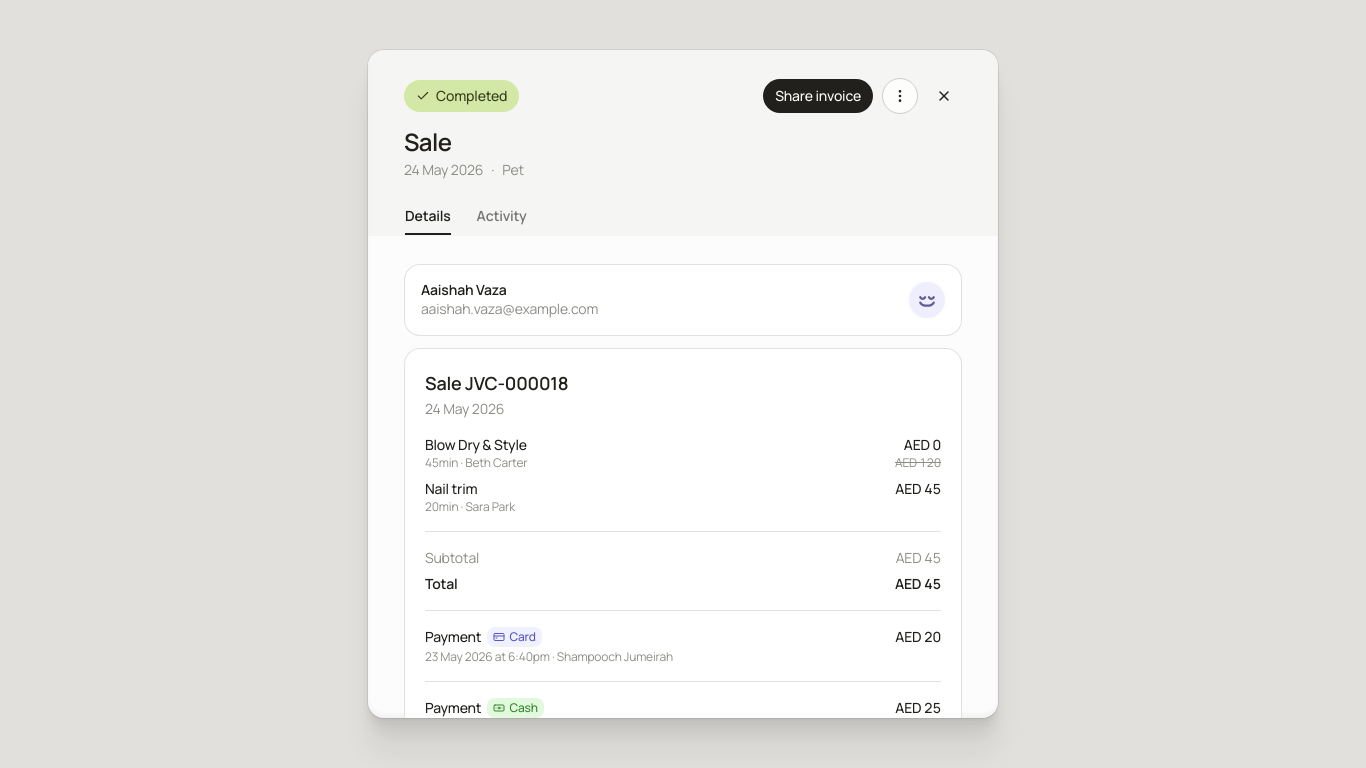
Test: a payment taken at another location › offers no void to a viewer who does not hold it, and keeps refund for the rest
Press the mouse on the button named "Quick actions" at point(900, 96), box x1=882 y1=78 x2=918 y2=114
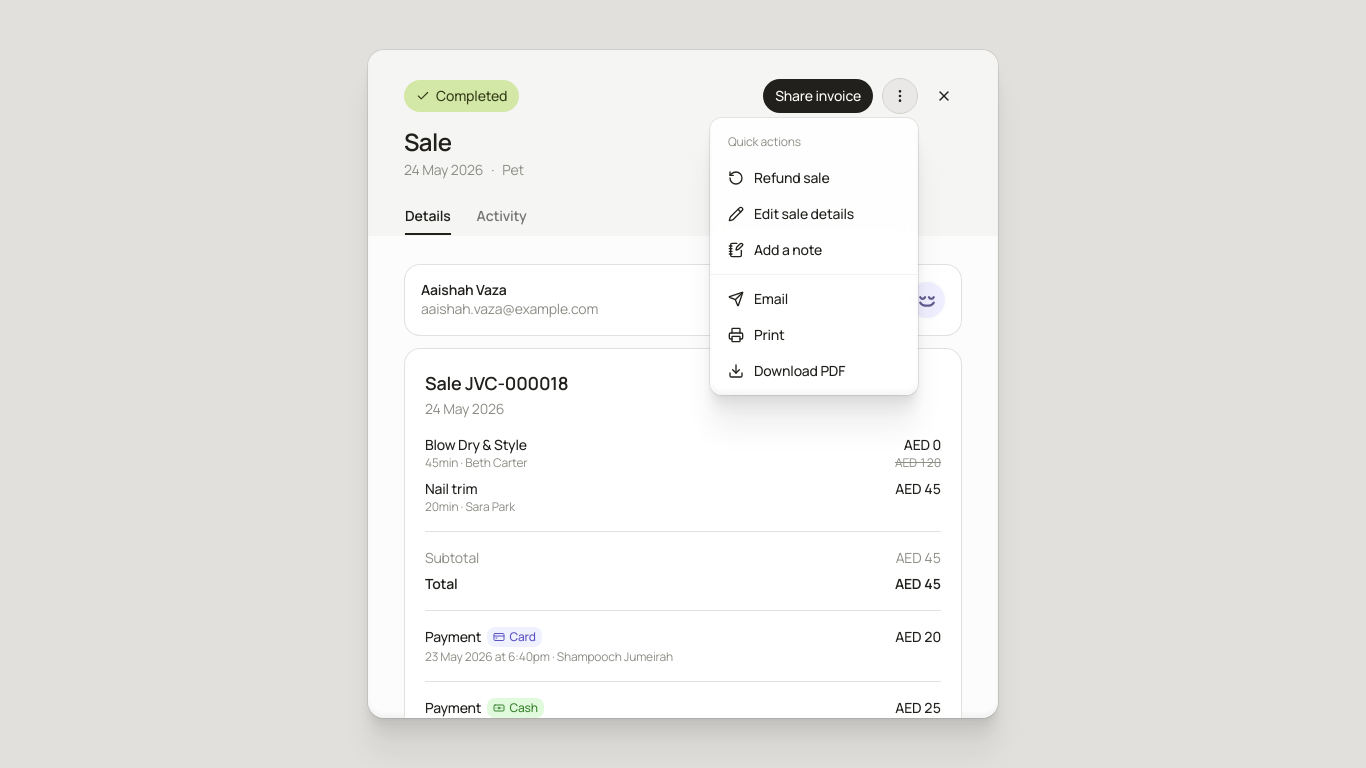
Expected: the menu item "Refund sale" is shown, x1=728 y1=168 x2=830 y2=187
